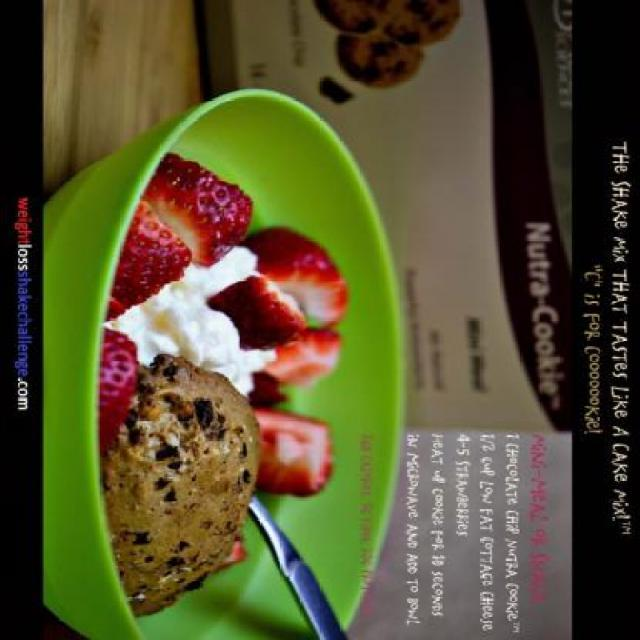Strawberry: (136, 146, 254, 262), (237, 226, 351, 330), (103, 201, 194, 324), (205, 277, 313, 354), (254, 404, 330, 498), (264, 322, 340, 389), (96, 325, 136, 449)
